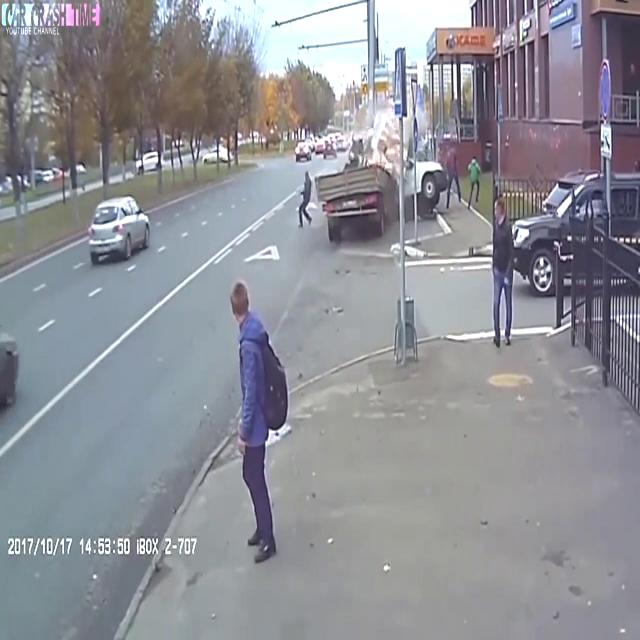accident: (314, 142, 444, 246)
non-accident: (510, 163, 640, 293), (296, 128, 348, 162)
